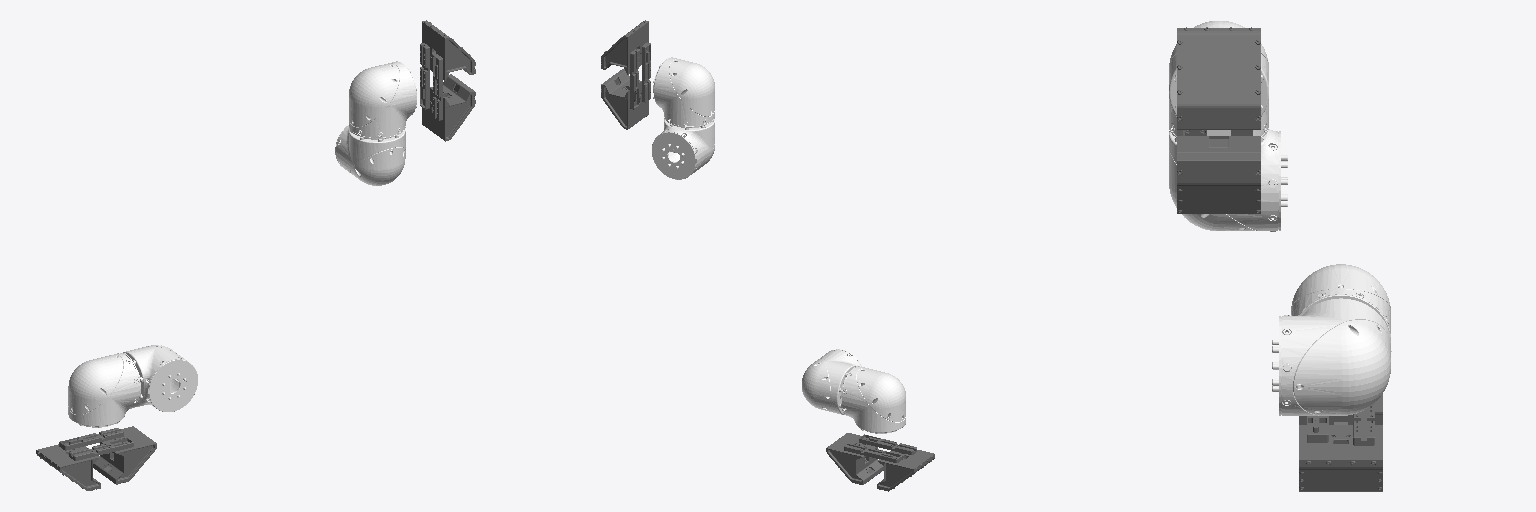
The robot description file, URDF, robot "hero_7dof_v3":
<?xml version="1.0" encoding="utf-8"?>
<robot
  name="hero_7dof_v3">
  <link
    name="base_link">
  </link>
  <link
    name="gripper1_base">
    <inertial>
      <origin
        xyz="0.024401 -0.00013313 0.02768"
        rpy="0 0 0" />
      <mass
        value="0.47007" />
      <inertia
        ixx="0.0015043"
        ixy="-4.8635E-06"
        ixz="-1.2525E-06"
        iyy="0.00030301"
        iyz="5.0374E-08"
        izz="0.001673" />
    </inertial>
    <visual>
      <origin
        xyz="0 0 0"
        rpy="0 0 0" />
      <geometry>
        <mesh
          filename="package://motion_planning_trajectory_execution/robot_description/hero_v3/meshes/gripper1_base.STL" />
      </geometry>
      <material
        name="">
        <color
          rgba="0.5 0.5 0.5 1.0" />
      </material>
    </visual>
    <collision>
      <origin
        xyz="0 0 0"
        rpy="0 0 0" />
      <geometry>
        <mesh
          filename="package://motion_planning_trajectory_execution/robot_description/hero_v3/meshes/gripper1_base.STL" />
      </geometry>
    </collision>
  </link>
  <joint
    name="gripper1_base_joint"
    type="fixed">
    <origin
      xyz="0 0 0.06"
      rpy="3.1416 0 -1.5708" />
    <parent
      link="base_link" />
    <child
      link="gripper1_base" />
  </joint>
  <link
    name="gripper1_jaw_left">
    <inertial>
      <origin
        xyz="-0.029142 0.030693 -0.020218"
        rpy="0 0 0" />
      <mass
        value="0.092629" />
      <inertia
        ixx="0.00015307"
        ixy="9.6925E-06"
        ixz="1.8582E-05"
        iyy="0.00017907"
        iyz="2.9003E-06"
        izz="0.00010824" />
    </inertial>
    <visual>
      <origin
        xyz="0 0 0"
        rpy="0 0 0" />
      <geometry>
        <mesh
          filename="package://motion_planning_trajectory_execution/robot_description/hero_v3/meshes/gripper1_jaw_left.STL" />
      </geometry>
      <material
        name="">
        <color
          rgba="0.5 0.5 0.5 1.0" />
      </material>
    </visual>
    <collision>
      <origin
        xyz="0 0 0"
        rpy="0 0 0" />
      <geometry>
        <mesh
          filename="package://motion_planning_trajectory_execution/robot_description/hero_v3/meshes/gripper1_jaw_left.STL" />
      </geometry>
    </collision>
  </link>
  <joint
    name="gripper1_jaw_left_joint"
    type="prismatic">
    <origin
      xyz="-0.035 0.059351 0.05"
      rpy="1.5708 0 3.1416" />
    <parent
      link="gripper1_base" />
    <child
      link="gripper1_jaw_left" />
    <axis
      xyz="0 0 1" />
    <limit
      lower="-0.017"
      upper="0.05"
      effort="100"
      velocity="2" />
  </joint>
  <link
    name="gripper1_jaw_right">
    <inertial>
      <origin
        xyz="0.028999 -0.031083 -0.020174"
        rpy="0 0 0" />
      <mass
        value="0.090419" />
      <inertia
        ixx="0.00015295"
        ixy="9.6925E-06"
        ixz="-1.8582E-05"
        iyy="0.0001789"
        iyz="-2.9075E-06"
        izz="0.00010816" />
    </inertial>
    <visual>
      <origin
        xyz="0 0 0"
        rpy="0 0 0" />
      <geometry>
        <mesh
          filename="package://motion_planning_trajectory_execution/robot_description/hero_v3/meshes/gripper1_jaw_right.STL" />
      </geometry>
      <material
        name="">
        <color
          rgba="0.5 0.5 0.5 1.0" />
      </material>
    </visual>
    <collision>
      <origin
        xyz="0 0 0"
        rpy="0 0 0" />
      <geometry>
        <mesh
          filename="package://motion_planning_trajectory_execution/robot_description/hero_v3/meshes/gripper1_jaw_right.STL" />
      </geometry>
    </collision>
  </link>
  <joint
    name="gripper1_jaw_right_joint"
    type="prismatic">
    <origin
      xyz="0.035 -0.05935 0.05"
      rpy="-1.5708 0 3.1416" />
    <parent
      link="gripper1_base" />
    <child
      link="gripper1_jaw_right" />
    <axis
      xyz="0 0 1" />
    <limit
      lower="-0.017"
      upper="0.05"
      effort="100"
      velocity="2" />
    <mimic
    joint="gripper1_jaw_left_joint"
      multiplier="1"
      offset="0" />
  </joint>
  <link
    name="link1">
    <inertial>
      <origin
        xyz="-0.00022818 0.022648 0.049053"
        rpy="0 0 0" />
      <mass
        value="0.25969" />
      <inertia
        ixx="0.0003936"
        ixy="8.7511E-07"
        ixz="2.8973E-06"
        iyy="0.00045213"
        iyz="-8.9157E-05"
        izz="0.00046666" />
    </inertial>
    <visual>
      <origin
        xyz="0 0 0"
        rpy="0 0 0" />
      <geometry>
        <mesh
          filename="package://motion_planning_trajectory_execution/robot_description/hero_v3/meshes/link1.STL" />
      </geometry>
      <material
        name="">
        <color
          rgba="1.0 1.0 1.0 1.0" />
      </material>
    </visual>
    <collision>
      <origin
        xyz="0 0 0"
        rpy="0 0 0" />
      <geometry>
        <mesh
          filename="package://motion_planning_trajectory_execution/robot_description/hero_v3/meshes/link1.STL" />
      </geometry>
    </collision>
  </link>
  <joint
    name="joint1"
    type="continuous">
    <origin
      xyz="0 0 0"
      rpy="3.1416 0 0" />
    <parent
      link="gripper1_base" />
    <child
      link="link1" />
    <axis
      xyz="0 0 1" />
  </joint>
  <link
    name="link2">
    <inertial>
      <origin
        xyz="0.022648 0.00022817 0.049553"
        rpy="0 0 0" />
      <mass
        value="0.2597" />
      <inertia
        ixx="0.00045213"
        ixy="-8.7507E-07"
        ixz="-8.9157E-05"
        iyy="0.0003936"
        iyz="-2.8973E-06"
        izz="0.00046666" />
    </inertial>
    <visual>
      <origin
        xyz="0 0 0"
        rpy="0 0 0" />
      <geometry>
        <mesh
          filename="package://motion_planning_trajectory_execution/robot_description/hero_v3/meshes/link2.STL" />
      </geometry>
      <material
        name="">
        <color
          rgba="1.0 1.0 1.0 1.0" />
      </material>
    </visual>
    <collision>
      <origin
        xyz="0 0 0"
        rpy="0 0 0" />
      <geometry>
        <mesh
          filename="package://motion_planning_trajectory_execution/robot_description/hero_v3/meshes/link2.STL" />
      </geometry>
    </collision>
  </link>
  <joint
    name="joint2"
    type="continuous">
    <origin
      xyz="0 0.0665 0.0635"
      rpy="-1.5708 0 0" />
    <parent
      link="link1" />
    <child
      link="link2" />
    <axis
      xyz="0 0 1" />
  </joint>
  <link
    name="link3">
    <inertial>
      <origin
        xyz="-0.20485 8.5969E-08 0.04975"
        rpy="0 0 0" />
      <mass
        value="0.60091" />
      <inertia
        ixx="0.00096591"
        ixy="-2.4474E-07"
        ixz="1.8671E-06"
        iyy="0.014537"
        iyz="-1.4285E-09"
        izz="0.015255" />
    </inertial>
    <visual>
      <origin
        xyz="0 0 0"
        rpy="0 0 0" />
      <geometry>
        <mesh
          filename="package://motion_planning_trajectory_execution/robot_description/hero_v3/meshes/link3.STL" />
      </geometry>
      <material
        name="">
        <color
          rgba="1.0 1.0 1.0 1.0" />
      </material>
    </visual>
    <collision>
      <origin
        xyz="0 0 0"
        rpy="0 0 0" />
      <geometry>
        <mesh
          filename="package://motion_planning_trajectory_execution/robot_description/hero_v3/meshes/link3.STL" />
      </geometry>
    </collision>
  </link>
  <joint
    name="joint3"
    type="continuous">
    <origin
      xyz="0.067 0 0.064"
      rpy="0 1.5708 0" />
    <parent
      link="link2" />
    <child
      link="link3" />
    <axis
      xyz="0 0 1" />
  </joint>
  <link
    name="link4">
    <inertial>
      <origin
        xyz="-0.18726 9.7269E-07 0.055027"
        rpy="0 0 0" />
      <mass
        value="0.66431" />
      <inertia
        ixx="0.0010713"
        ixy="-3.5896E-07"
        ixz="-5.5071E-06"
        iyy="0.016379"
        iyz="7.0959E-09"
        izz="0.01708" />
    </inertial>
    <visual>
      <origin
        xyz="0 0 0"
        rpy="0 0 0" />
      <geometry>
        <mesh
          filename="package://motion_planning_trajectory_execution/robot_description/hero_v3/meshes/link4.STL" />
      </geometry>
      <material
        name="">
        <color
          rgba="1.0 1.0 1.0 1.0" />
      </material>
    </visual>
    <collision>
      <origin
        xyz="0 0 0"
        rpy="0 0 0" />
      <geometry>
        <mesh
          filename="package://motion_planning_trajectory_execution/robot_description/hero_v3/meshes/link4.STL" />
      </geometry>
    </collision>
  </link>
  <joint
    name="joint4"
    type="continuous">
    <origin
      xyz="-0.41 0 0"
      rpy="-3.1416 0 1.5708" />
    <parent
      link="link3" />
    <child
      link="link4" />
    <axis
      xyz="0 0 1" />
  </joint>
  <link
    name="link5">
    <inertial>
      <origin
        xyz="-0.00022817 -0.014447 0.044352"
        rpy="0 0 0" />
      <mass
        value="0.2597" />
      <inertia
        ixx="0.0003936"
        ixy="2.8973E-06"
        ixz="-8.7505E-07"
        iyy="0.00046666"
        iyz="8.9157E-05"
        izz="0.00045213" />
    </inertial>
    <visual>
      <origin
        xyz="0 0 0"
        rpy="0 0 0" />
      <geometry>
        <mesh
          filename="package://motion_planning_trajectory_execution/robot_description/hero_v3/meshes/link5.STL" />
      </geometry>
      <material
        name="">
        <color
          rgba="1.0 1.0 1.0 1.0" />
      </material>
    </visual>
    <collision>
      <origin
        xyz="0 0 0"
        rpy="0 0 0" />
      <geometry>
        <mesh
          filename="package://motion_planning_trajectory_execution/robot_description/hero_v3/meshes/link5.STL" />
      </geometry>
    </collision>
  </link>
  <joint
    name="joint5"
    type="continuous">
    <origin
      xyz="-0.41 0 0.003"
      rpy="-3.1416 0 1.5708" />
    <parent
      link="link4" />
    <child
      link="link5" />
    <axis
      xyz="0 0 1" />
  </joint>
  <link
    name="link6">
    <inertial>
      <origin
        xyz="0.00022818 0.014447 0.044352"
        rpy="0 0 0" />
      <mass
        value="0.25969" />
      <inertia
        ixx="0.0003936"
        ixy="2.8974E-06"
        ixz="8.751E-07"
        iyy="0.00046666"
        iyz="-8.9157E-05"
        izz="0.00045213" />
    </inertial>
    <visual>
      <origin
        xyz="0 0 0"
        rpy="0 0 0" />
      <geometry>
        <mesh
          filename="package://motion_planning_trajectory_execution/robot_description/hero_v3/meshes/link6.STL" />
      </geometry>
      <material
        name="">
        <color
          rgba="1.0 1.0 1.0 1.0" />
      </material>
    </visual>
    <collision>
      <origin
        xyz="0 0 0"
        rpy="0 0 0" />
      <geometry>
        <mesh
          filename="package://motion_planning_trajectory_execution/robot_description/hero_v3/meshes/link6.STL" />
      </geometry>
    </collision>
  </link>
  <joint
    name="joint6"
    type="continuous">
    <origin
      xyz="0 -0.064 0.067"
      rpy="1.5708 -1.5708 0" />
    <parent
      link="link5" />
    <child
      link="link6" />
    <axis
      xyz="0 0 1" />
  </joint>
  <link
    name="link7">
  </link>
  <joint
    name="joint7"
    type="continuous">
    <origin
      xyz="0 0.064 0.067"
      rpy="1.5708 0 3.1416" />
    <parent
      link="link6" />
    <child
      link="link7" />
    <axis
      xyz="0 0 1" />
  </joint>
  <link
    name="gripper2_base">
    <inertial>
      <origin
        xyz="-0.024401 -0.00013323 -0.02768"
        rpy="0 0 0" />
      <mass
        value="0.47006" />
      <inertia
        ixx="0.0015043"
        ixy="4.8635E-06"
        ixz="-1.2524E-06"
        iyy="0.00030301"
        iyz="-5.01E-08"
        izz="0.001673" />
    </inertial>
    <visual>
      <origin
        xyz="0 0 0"
        rpy="0 0 0" />
      <geometry>
        <mesh
          filename="package://motion_planning_trajectory_execution/robot_description/hero_v3/meshes/gripper2_base.STL" />
      </geometry>
      <material
        name="">
        <color
          rgba="0.5 0.5 0.5 1.0" />
      </material>
    </visual>
    <collision>
      <origin
        xyz="0 0 0"
        rpy="0 0 0" />
      <geometry>
        <mesh
          filename="package://motion_planning_trajectory_execution/robot_description/hero_v3/meshes/gripper2_base.STL" />
      </geometry>
    </collision>
  </link>
  <joint
    name="gripper2_base_joint"
    type="fixed">
    <origin
      xyz="0 0 0"
      rpy="3.1416 0 0" />
    <parent
      link="link7" />
    <child
      link="gripper2_base" />
  </joint>
  <link
    name="gripper2_jaw_left">
    <inertial>
      <origin
        xyz="-0.029142 0.030693 -0.020218"
        rpy="0 0 0" />
      <mass
        value="0.092629" />
      <inertia
        ixx="0.00015307"
        ixy="9.6925E-06"
        ixz="1.8582E-05"
        iyy="0.00017907"
        iyz="2.9003E-06"
        izz="0.00010824" />
    </inertial>
    <visual>
      <origin
        xyz="0 0 0"
        rpy="0 0 0" />
      <geometry>
        <mesh
          filename="package://motion_planning_trajectory_execution/robot_description/hero_v3/meshes/gripper2_jaw_left.STL" />
      </geometry>
      <material
        name="">
        <color
          rgba="0.5 0.5 0.5 1.0" />
      </material>
    </visual>
    <collision>
      <origin
        xyz="0 0 0"
        rpy="0 0 0" />
      <geometry>
        <mesh
          filename="package://motion_planning_trajectory_execution/robot_description/hero_v3/meshes/gripper2_jaw_left.STL" />
      </geometry>
    </collision>
  </link>
  <joint
    name="gripper2_jaw_left_joint"
    type="prismatic">
    <origin
      xyz="0.035 0.061 -0.05"
      rpy="-1.5708 0 0" />
    <parent
      link="gripper2_base" />
    <child
      link="gripper2_jaw_left" />
    <axis
      xyz="0 0 1" />
    <limit
      lower="-0.017"
      upper="0.05"
      effort="100"
      velocity="2" />
  </joint>
  <link
    name="gripper2_jaw_right">
    <inertial>
      <origin
        xyz="-0.028999 0.031083 -0.020174"
        rpy="0 0 0" />
      <mass
        value="0.090419" />
      <inertia
        ixx="0.00015295"
        ixy="9.6925E-06"
        ixz="1.8582E-05"
        iyy="0.0001789"
        iyz="2.9075E-06"
        izz="0.00010816" />
    </inertial>
    <visual>
      <origin
        xyz="0 0 0"
        rpy="0 0 0" />
      <geometry>
        <mesh
          filename="package://motion_planning_trajectory_execution/robot_description/hero_v3/meshes/gripper2_jaw_right.STL" />
      </geometry>
      <material
        name="">
        <color
          rgba="0.5 0.5 0.5 1.0" />
      </material>
    </visual>
    <collision>
      <origin
        xyz="0 0 0"
        rpy="0 0 0" />
      <geometry>
        <mesh
          filename="package://motion_planning_trajectory_execution/robot_description/hero_v3/meshes/gripper2_jaw_right.STL" />
      </geometry>
    </collision>
  </link>
  <joint
    name="gripper2_jaw_right_joint"
    type="prismatic">
    <origin
      xyz="-0.035 -0.061 -0.05"
      rpy="-1.5708 0 -3.1416" />
    <parent
      link="gripper2_base" />
    <child
      link="gripper2_jaw_right" />
    <axis
      xyz="0 0 1" />
    <limit
      lower="-0.017"
      upper="0.05"
      effort="100"
      velocity="2" />
    <mimic
    joint="gripper2_jaw_left_joint"
      multiplier="1"
      offset="0" />
  </joint>
</robot>

--- Render facts (derived) ---
Views: 3 orthographic renders of the robot side by side, from view 1: azimuth 30°, elevation 25°; view 2: azimuth 150°, elevation 25°; view 3: azimuth 270°, elevation 25°.
Model hero_7dof_v3 with 14 links and 13 joints (7 continuous, 4 prismatic, 2 fixed), rooted at base_link, posed all joints at 0.
Links seen in each view (by area): view 1: link1, link6, link2, link5, gripper2_jaw_left, gripper1_jaw_right, gripper2_jaw_right, gripper1_jaw_left; view 2: link6, link1, link5, link2, gripper2_jaw_left, gripper1_jaw_right, gripper2_jaw_right, gripper1_jaw_left; view 3: link2, gripper2_jaw_right, gripper2_jaw_left, gripper1_jaw_right, link5, link1, link6, gripper1_jaw_left.
Boxes of the visible links, x1,y1,x2,y2 form: link1: (68, 353, 140, 427); link6: (349, 61, 416, 138); link2: (123, 345, 197, 411); link5: (335, 125, 405, 185); gripper2_jaw_left: (420, 43, 475, 141); gripper1_jaw_right: (69, 426, 156, 484); gripper2_jaw_right: (422, 20, 475, 120); gripper1_jaw_left: (36, 428, 123, 490); link6: (653, 57, 714, 127); link1: (841, 366, 905, 433); link5: (652, 119, 714, 179); link2: (802, 349, 861, 414); gripper2_jaw_left: (601, 49, 648, 129); gripper1_jaw_right: (826, 433, 916, 484); gripper2_jaw_right: (601, 20, 650, 102); gripper1_jaw_left: (844, 442, 934, 491); link2: (1272, 298, 1391, 415); gripper2_jaw_right: (1177, 27, 1260, 135); gripper2_jaw_left: (1177, 130, 1260, 213); gripper1_jaw_right: (1299, 416, 1382, 491); link5: (1169, 129, 1287, 231); link1: (1291, 264, 1390, 336); link6: (1169, 21, 1268, 137); gripper1_jaw_left: (1299, 394, 1382, 445).
Size in the robot's own frame: 0.8385 by 0.2398 by 0.8402 metres.
8 mesh visuals loaded from 12 distinct referenced files (8 binary STL); not drawn: 4 (reference not matched to a file when rendering).